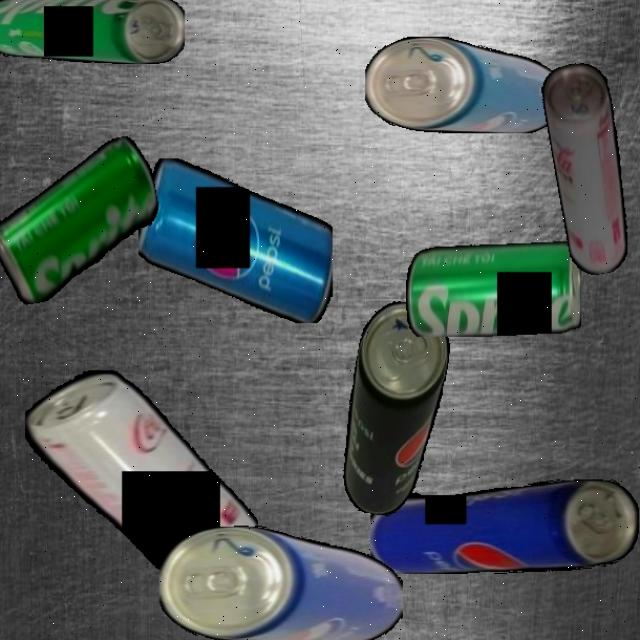debris: (24, 370, 258, 575), (138, 158, 332, 324), (0, 134, 171, 308), (159, 524, 402, 640), (332, 297, 456, 521), (369, 479, 639, 574), (538, 59, 640, 278), (365, 36, 564, 133), (405, 240, 581, 337), (0, 0, 185, 64)
